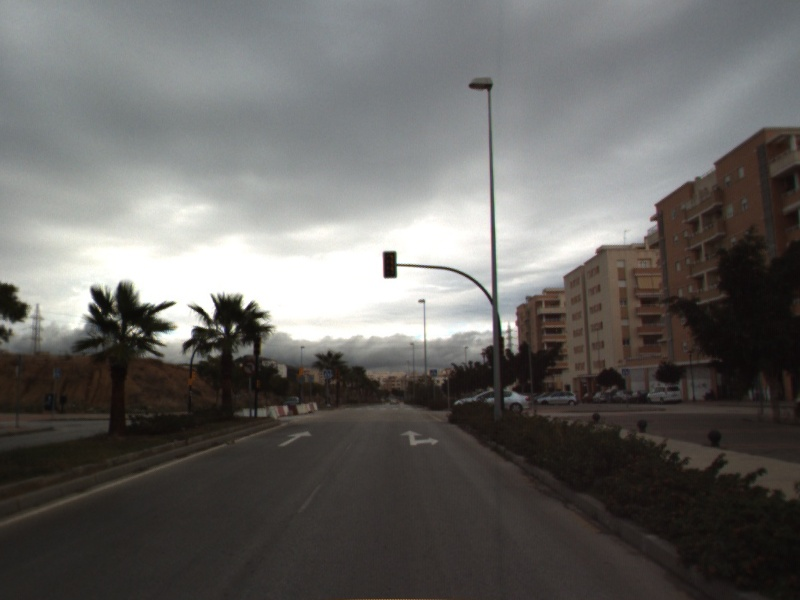STRAIGHT: (276, 428, 314, 448)
STRAIGHT_RIGHT: (398, 428, 441, 447)
